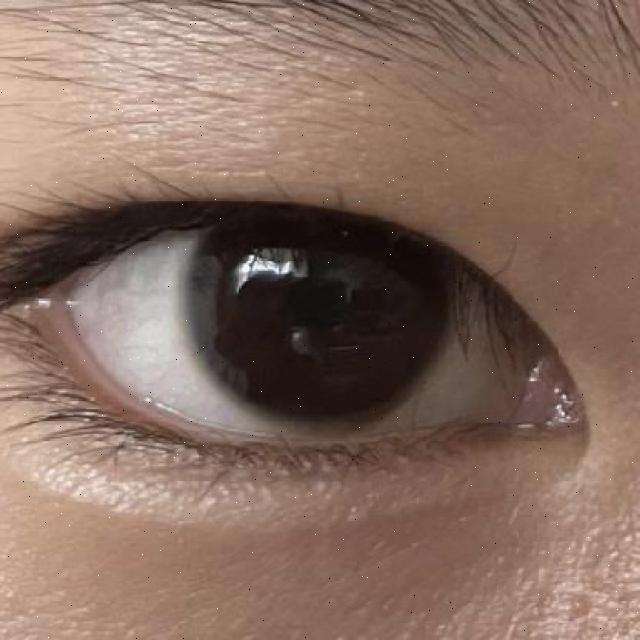Normal: (182, 168, 453, 427)
